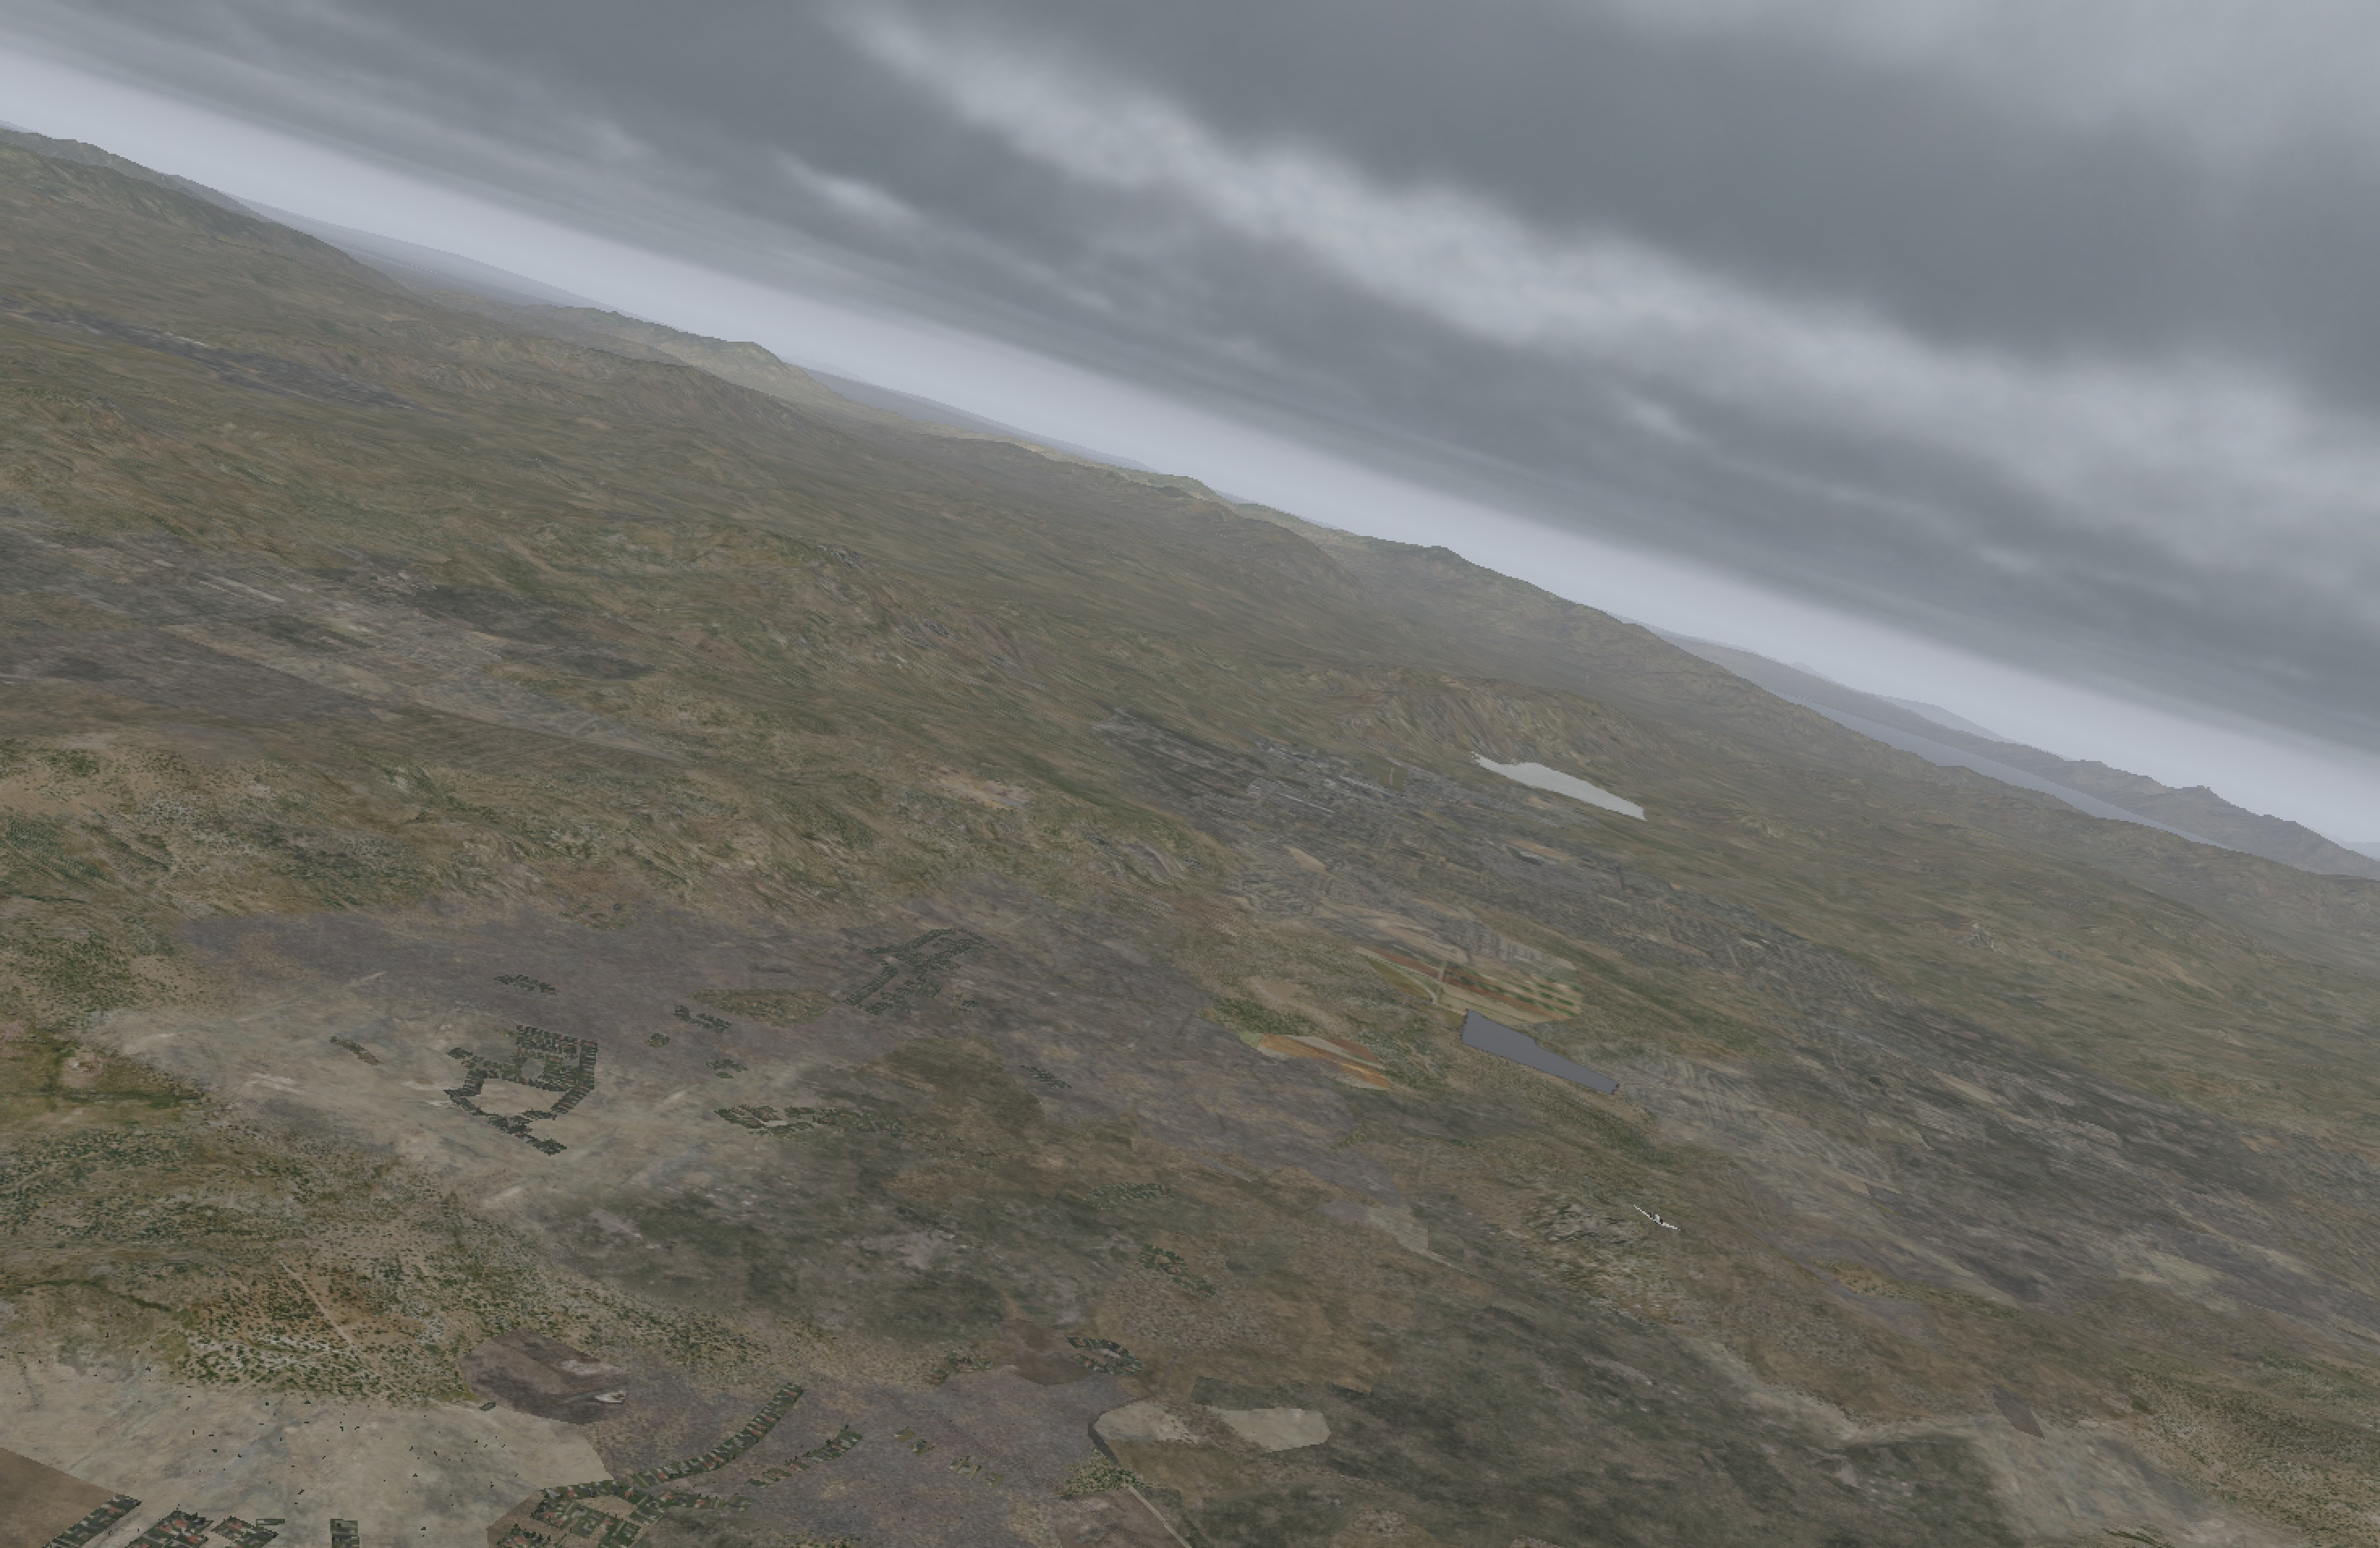aircraft: (1631, 1211, 1681, 1229)
